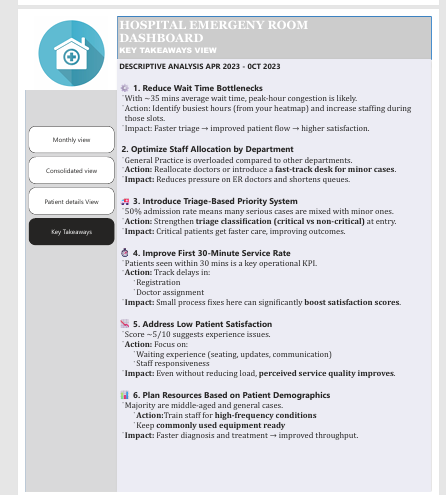

Layout of this report page (visuals, bound fields, positions):
{"tool":"powerbi","page":{"name":"Key Takeaways","canvas":[1280,1500],"ordinal":3},"visuals":[{"type":"shape","box":[0,0,290,2400],"z":0},{"type":"shape","box":[290,0,990,135],"z":1000},{"type":"textbox","box":[290,0,692.5,135],"z":2000},{"type":"image","box":[0,0,290,232.2],"z":3000},{"type":"textbox","box":[290,135,990,1365],"z":3001},{"type":"pageNavigator","box":[10,346,270,376],"z":3002}]}

Visuals, with their boxes on the page's 1280x1500 design canvas (x1, y1, x2, y2). These are canvas units, not pixel positions in the 446x495 screenshot, which may show the page scaled, cropped or inside an application window:
shape: 0, 0, 290, 2400
shape: 290, 0, 1280, 135
textbox: 290, 0, 982, 135
image: 0, 0, 290, 232
textbox: 290, 135, 1280, 1500
pageNavigator: 10, 346, 280, 722
